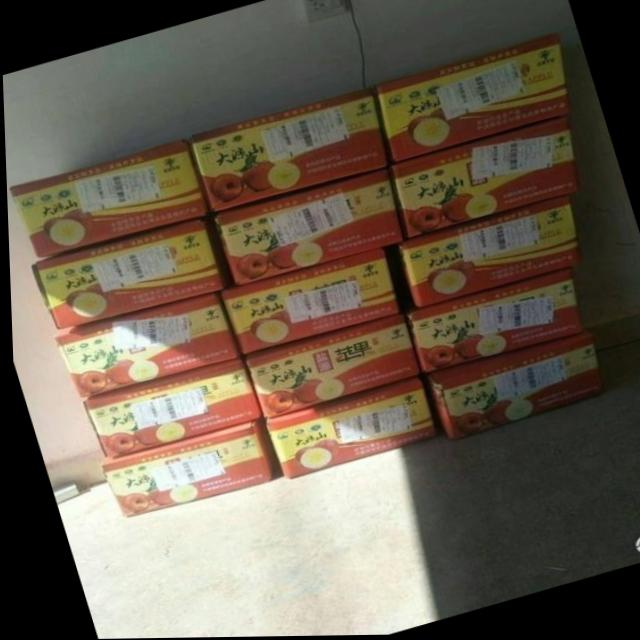box: (370, 34, 568, 162), (186, 88, 385, 212), (8, 137, 209, 258), (29, 212, 231, 330), (385, 115, 577, 238), (212, 166, 400, 286), (387, 195, 577, 308), (411, 331, 600, 440), (51, 290, 237, 398), (392, 267, 579, 373), (79, 352, 259, 458), (218, 248, 396, 354), (241, 314, 416, 418), (97, 415, 274, 517), (262, 376, 433, 479)
